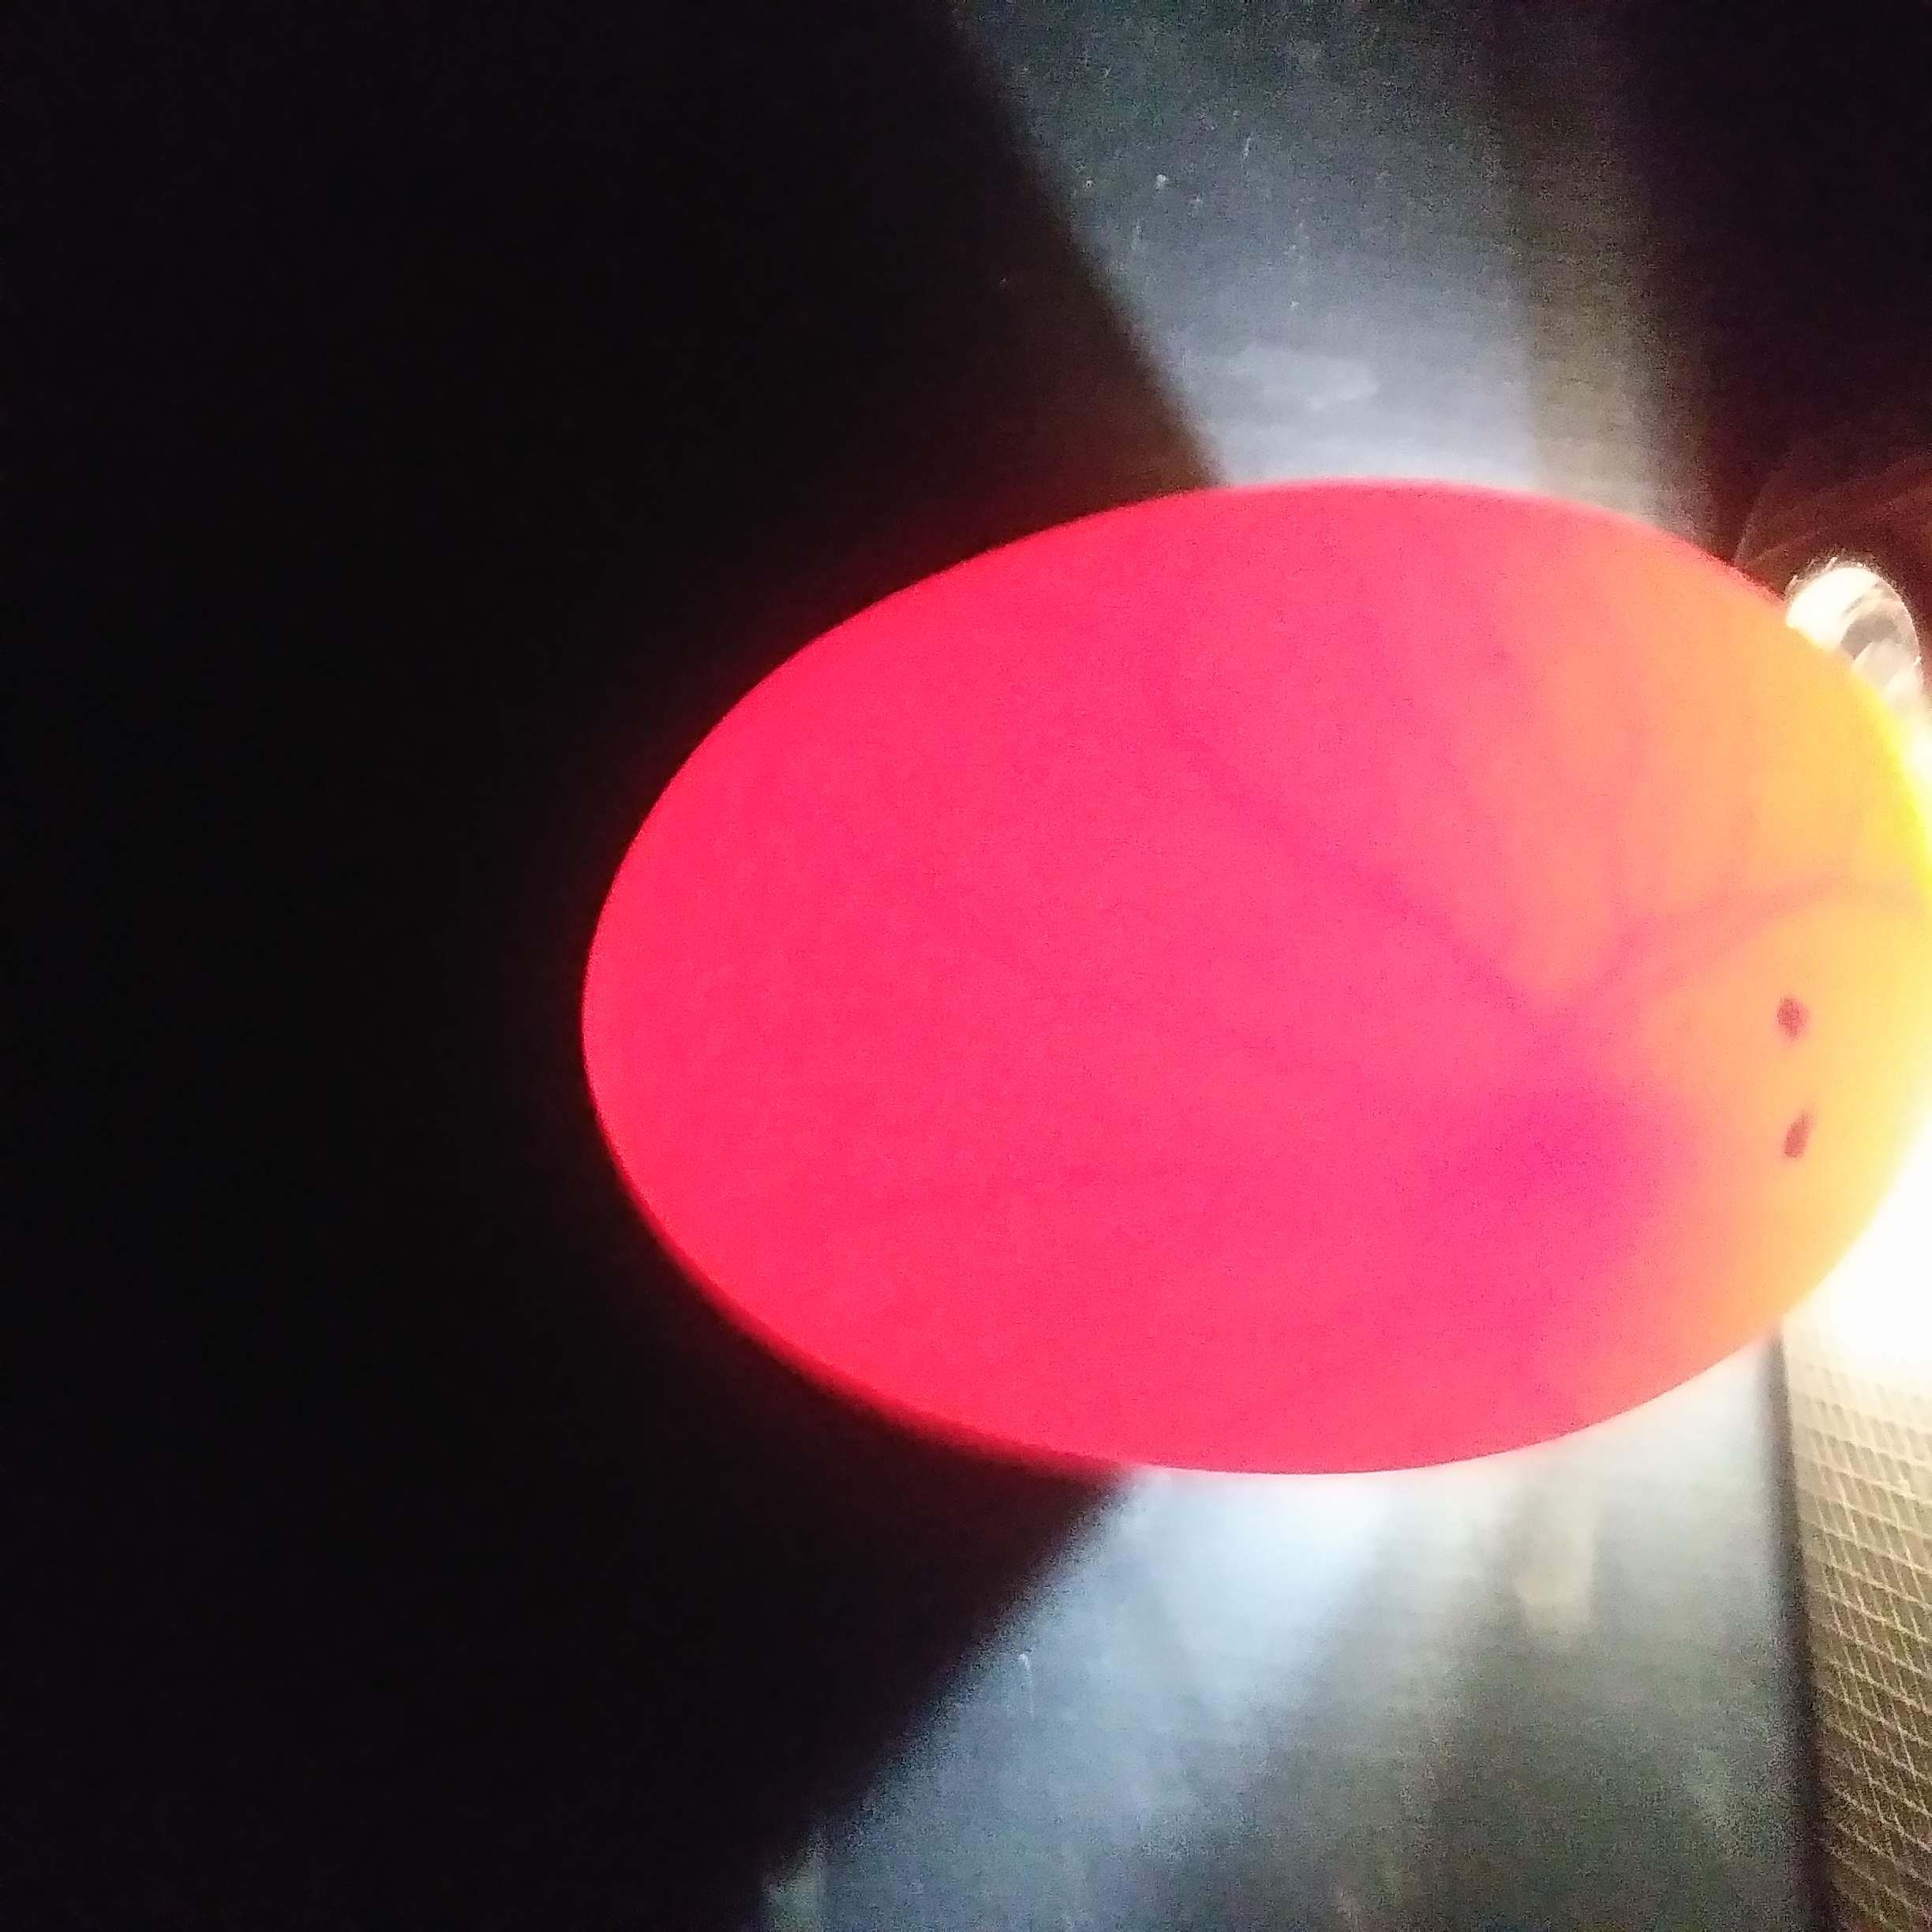bloodcell: (1040, 626, 1849, 1001)
embryo: (1463, 1046, 1704, 1267)
